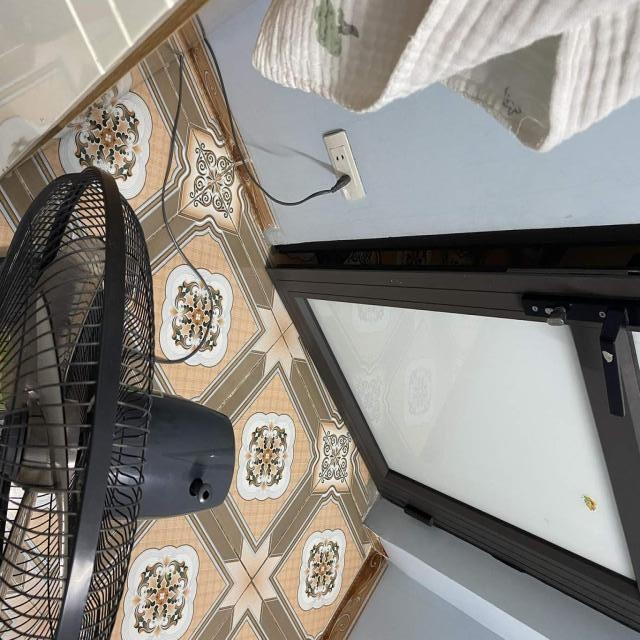outlet: (323, 128, 366, 200)
